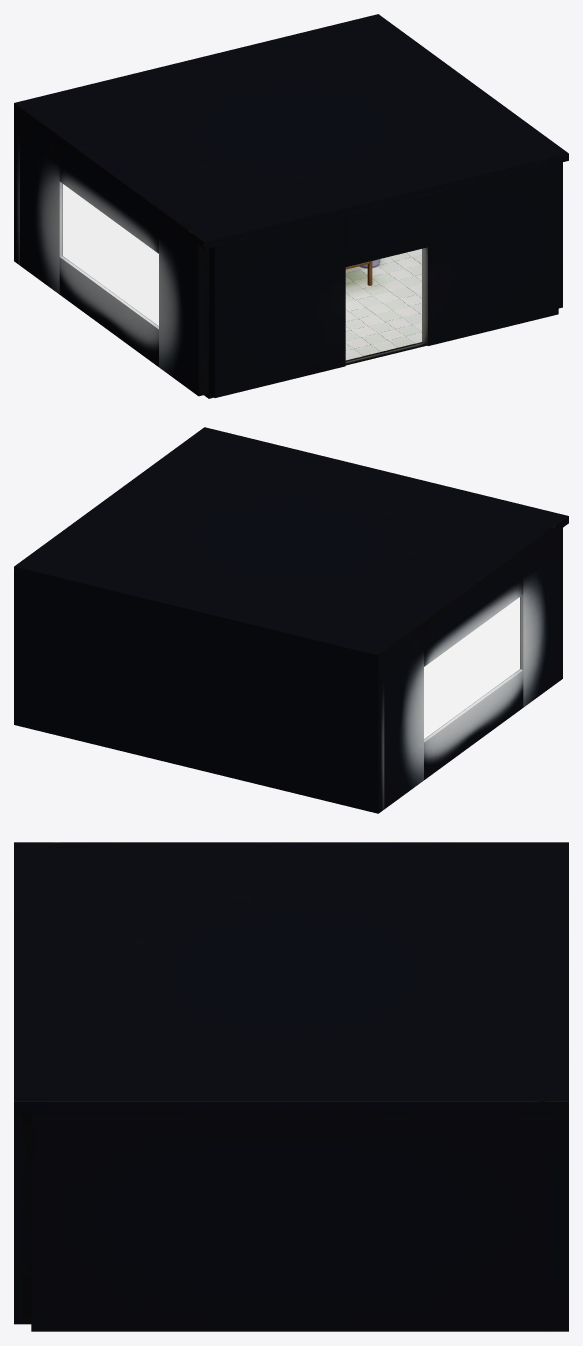
Rendered from room_stocks_m.glb.
3 renders of one model, top to bottom at view 1: azimuth 30°, elevation 25°; view 2: azimuth 150°, elevation 25°; view 3: azimuth 270°, elevation 25°, orthographic. The views are drawn at different scales.
Parts seen in each view (by area): view 1: baked_ceiling, baked_walls, baked_floor, window_glass; view 2: baked_walls, baked_ceiling, window_glass; view 3: baked_ceiling, baked_walls.
Part boxes in pixels (bbox=[...]): baked_ceiling: bbox=[14, 14, 568, 249]; baked_walls: bbox=[14, 110, 562, 397]; baked_floor: bbox=[204, 249, 426, 398]; window_glass: bbox=[63, 184, 158, 325]; baked_walls: bbox=[14, 528, 562, 813]; baked_ceiling: bbox=[14, 427, 568, 662]; window_glass: bbox=[424, 597, 519, 738]; baked_ceiling: bbox=[14, 842, 568, 1111]; baked_walls: bbox=[14, 1111, 568, 1331].
Bounding box in the file's own units: 10.6 × 4.54 × 9.6.
Materials: 13 (4 with a texture image).
